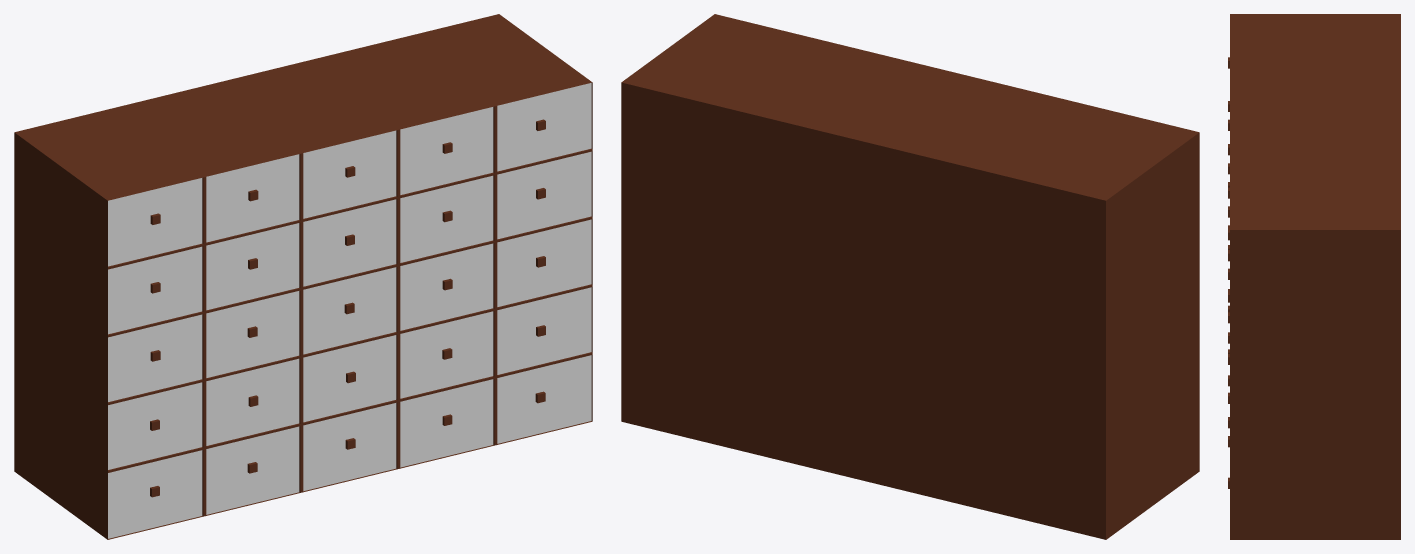
The model's file is SafeBoxes.fbx.
3 renders of one model, left to right at view 1: azimuth 30°, elevation 25°; view 2: azimuth 150°, elevation 25°; view 3: azimuth 270°, elevation 25°, orthographic. The views are drawn at different scales.
Parts seen in each view (by area): view 1: Cube; view 2: Cube; view 3: Cube.
Part boxes in pixels (x1,y1,x2,y2): Cube: (14,14,592,539); Cube: (621,14,1199,539); Cube: (1228,14,1400,539).
Bounding box in the file's own units: 598 × 400 × 202.
